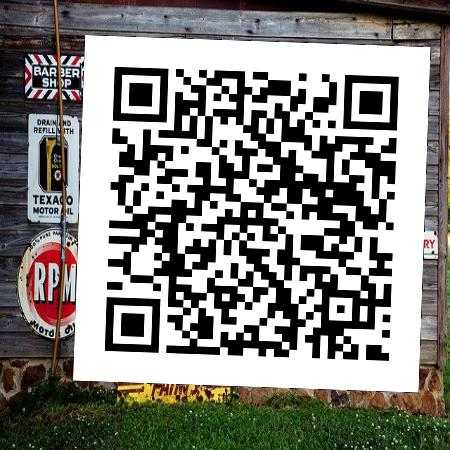qr_code: (73, 35, 430, 392)
